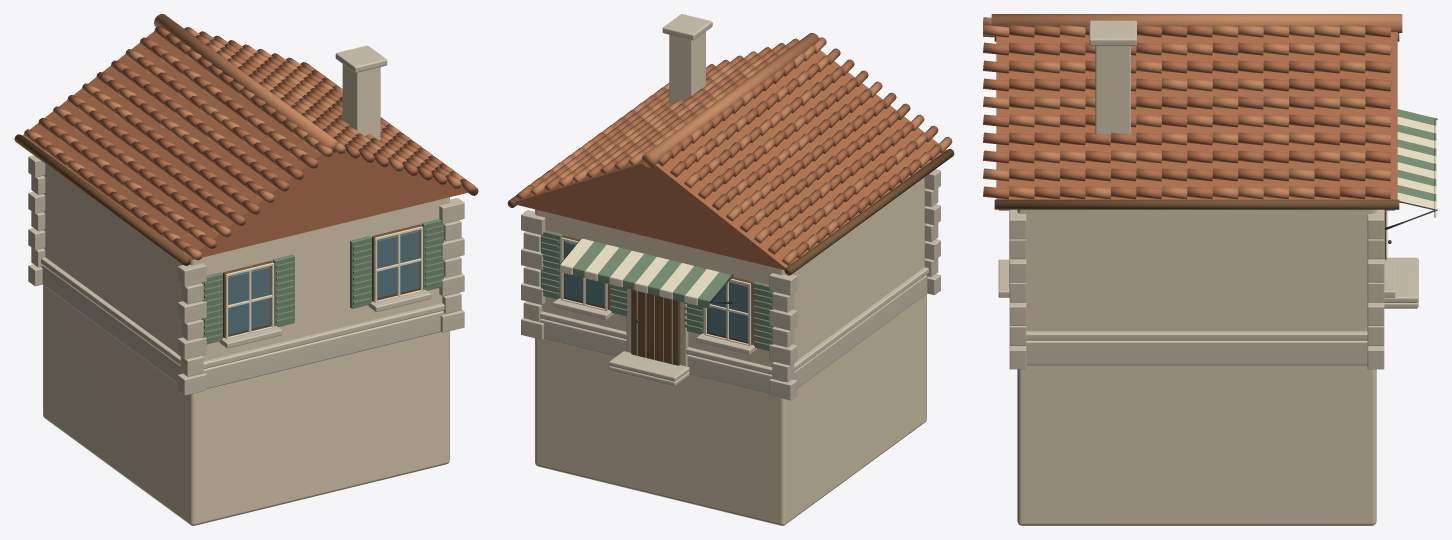
File: village_house_1.glb
The picture shows the model from 3 angles, left to right: view 1: azimuth 30°, elevation 25°; view 2: azimuth 150°, elevation 25°; view 3: azimuth 270°, elevation 25°; orthographic projection. The views are drawn at different scales.
Parts seen in each view (by area): view 1: VillageHouse1_Geometry; view 2: VillageHouse1_Geometry; view 3: VillageHouse1_Geometry.
Boxes of the visible parts, bbox=[...] form: VillageHouse1_Geometry: bbox=[14, 14, 478, 525]; VillageHouse1_Geometry: bbox=[507, 14, 954, 525]; VillageHouse1_Geometry: bbox=[983, 14, 1437, 525].
Bounding box in the file's own units: 6.82 × 8.64 × 7.6.
